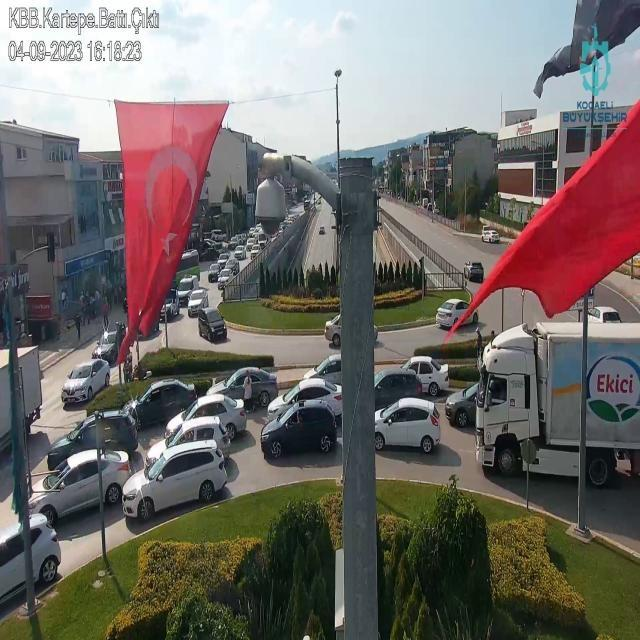Car: (122, 441, 228, 520), (33, 449, 132, 525), (0, 514, 58, 610), (47, 411, 137, 472), (159, 392, 247, 445), (259, 400, 337, 458), (374, 397, 442, 454), (123, 379, 197, 429), (266, 377, 343, 423), (204, 367, 276, 410), (366, 367, 424, 409), (61, 357, 112, 402), (322, 312, 380, 348), (400, 356, 448, 396), (444, 381, 482, 427), (92, 324, 127, 364), (435, 298, 476, 330), (302, 353, 344, 384), (197, 307, 227, 342), (188, 288, 210, 316), (464, 261, 484, 282), (215, 268, 234, 290), (208, 262, 222, 282), (224, 258, 239, 274)
Truck: (476, 317, 640, 489)
